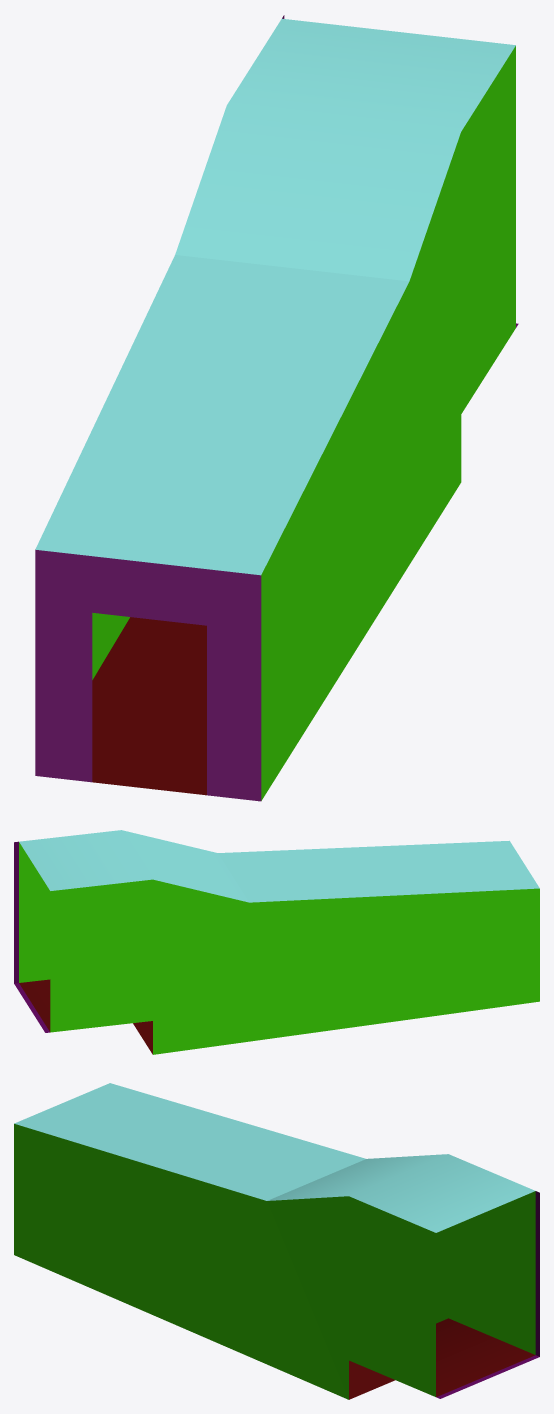
Rendered from Corridor_Room_v1.1.fbx.
3 views of the same model, one above another, from view 1: azimuth 30°, elevation 25°; view 2: azimuth 150°, elevation 25°; view 3: azimuth 270°, elevation 25° (orthographic). The views are drawn at different scales.
Parts seen in each view (by area): view 1: Corridor_R4; view 2: Corridor_R4; view 3: Corridor_R4.
Part boxes in pixels (x1,y1,x2,y2): Corridor_R4: (35,15,518,801); Corridor_R4: (14,830,539,1054); Corridor_R4: (14,1083,539,1399).
Bounding box in the file's own units: 1421 × 620 × 1451.
